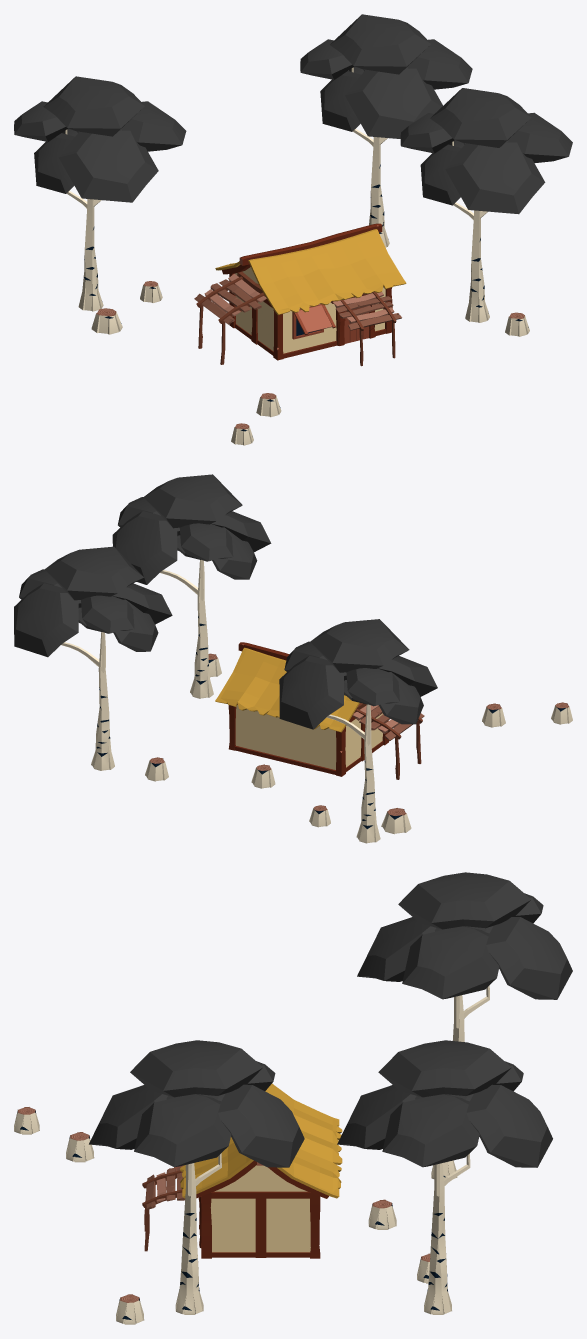
The model's file is SM_Forester_LODS_Group.fbx.
3 views of the same model, one above another, from view 1: azimuth 30°, elevation 25°; view 2: azimuth 150°, elevation 25°; view 3: azimuth 270°, elevation 25° (orthographic). The views are drawn at different scales.
Visible parts, largest first — view 1: SM_Forester_LOD0; view 2: SM_Forester_LOD0; view 3: SM_Forester_LOD0.
Boxes of the visible parts, bbox=[...] form: SM_Forester_LOD0: bbox=[14, 14, 572, 445]; SM_Forester_LOD0: bbox=[14, 474, 572, 843]; SM_Forester_LOD0: bbox=[14, 872, 572, 1324].
Bounding box in the file's own units: 933 × 865 × 461.
